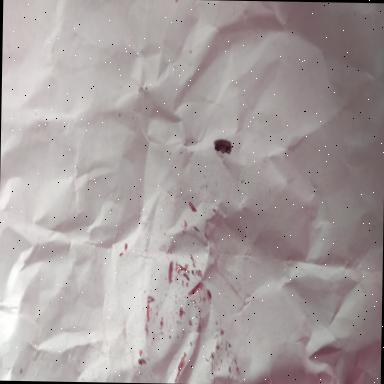pbw: (214, 142, 234, 156)
